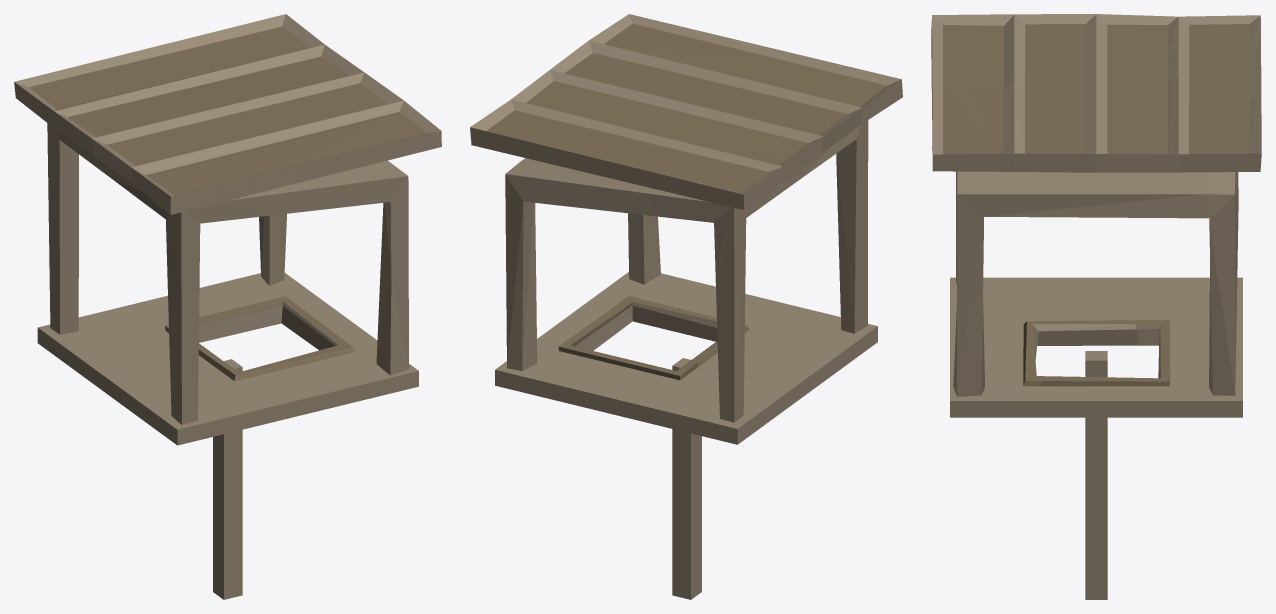
The model's file is Tower.fbx.
3 renders of one model, left to right at view 1: azimuth 30°, elevation 25°; view 2: azimuth 150°, elevation 25°; view 3: azimuth 270°, elevation 25°, orthographic. The views are drawn at different scales.
Visible parts, largest first — view 1: Roof, Platform, Skeleton, Roof_cell.001, Roof_cell.002, Platform_cell.001, Skeleton_cell, Roof_cell.004, Balca, Skeleton_cell.001, Roof_cell, Skeleton_cell.004 (+9 smaller); view 2: Platform, Roof_cell.001, Skeleton, Roof, Roof_cell.002, Platform_cell.001, Skeleton_cell, Balca, Platform_cell.003, Roof_cell, Platform_cell.002, Skeleton_cell.004 (+9 smaller); view 3: Skeleton, Roof_cell.001, Roof, Platform, Roof_cell.002, Platform_cell.001, Roof_cell, Skeleton_cell.004, Balca, Platform_cell, Platform_cell.003, Roof_cell.004 (+6 smaller).
Boxes of the visible parts, left/top/right/bottom form: Roof: left=14, top=14, right=441, bottom=214; Platform: left=37, top=274, right=418, bottom=445; Skeleton: left=59, top=140, right=408, bottom=424; Roof_cell.001: left=163, top=14, right=402, bottom=162; Roof_cell.002: left=89, top=82, right=298, bottom=214; Platform_cell.001: left=120, top=340, right=418, bottom=444; Skeleton_cell: left=47, top=123, right=264, bottom=313; Roof_cell.004: left=296, top=100, right=441, bottom=183; Balca: left=213, top=367, right=242, bottom=599; Skeleton_cell.001: left=48, top=173, right=78, bottom=334; Roof_cell: left=14, top=69, right=124, bottom=137; Skeleton_cell.004: left=262, top=176, right=408, bottom=303; Platform: left=495, top=273, right=877, bottom=444; Roof_cell.001: left=470, top=48, right=757, bottom=170; Skeleton: left=505, top=120, right=868, bottom=422; Roof: left=487, top=14, right=902, bottom=209; Roof_cell.002: left=663, top=48, right=902, bottom=155; Platform_cell.001: left=608, top=272, right=877, bottom=384; Skeleton_cell: left=651, top=120, right=868, bottom=270; Balca: left=672, top=367, right=701, bottom=599; Platform_cell.003: left=495, top=346, right=666, bottom=424; Roof_cell: left=695, top=139, right=821, bottom=209; Platform_cell.002: left=653, top=362, right=819, bottom=444; Skeleton_cell.004: left=505, top=174, right=651, bottom=215; Skeleton: left=953, top=171, right=1238, bottom=396; Roof_cell.001: left=949, top=77, right=1261, bottom=172; Roof: left=931, top=14, right=1261, bottom=172; Platform: left=950, top=277, right=1242, bottom=417; Roof_cell.002: left=931, top=14, right=1190, bottom=91; Platform_cell.001: left=950, top=277, right=1134, bottom=417; Roof_cell: left=1104, top=14, right=1260, bottom=59; Skeleton_cell.004: left=957, top=172, right=1238, bottom=306; Balca: left=1085, top=360, right=1107, bottom=599; Platform_cell: left=1004, top=368, right=1181, bottom=412; Platform_cell.003: left=1160, top=320, right=1242, bottom=400; Roof_cell.004: left=932, top=81, right=1014, bottom=171.
Size of the model in its own units: 779 by 1330 by 779.
